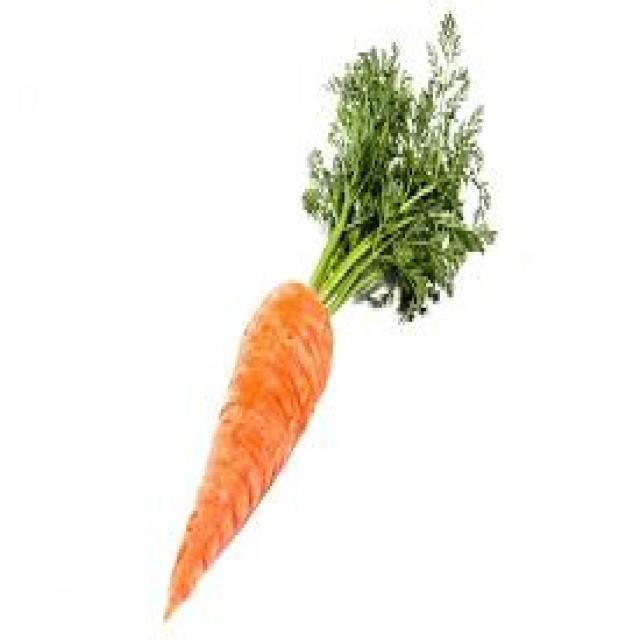organic waste: (301, 7, 494, 315), (163, 280, 330, 619)
